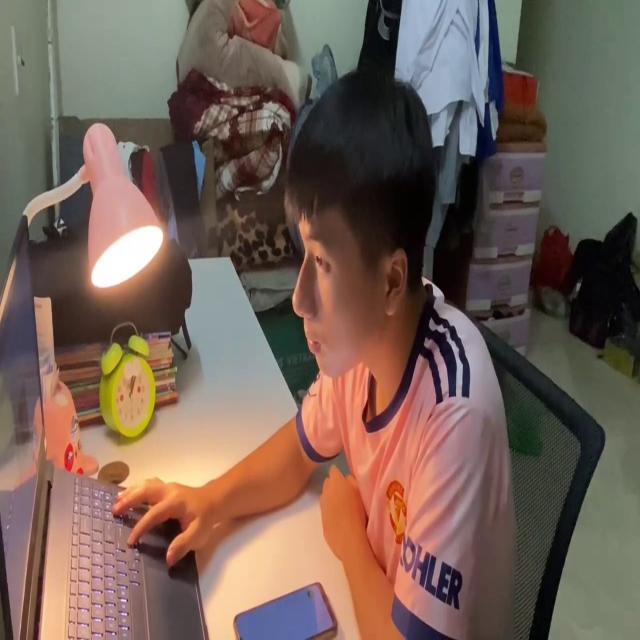laptop: (0, 206, 213, 640)
phone: (230, 573, 340, 640)
student: (108, 66, 518, 640)
